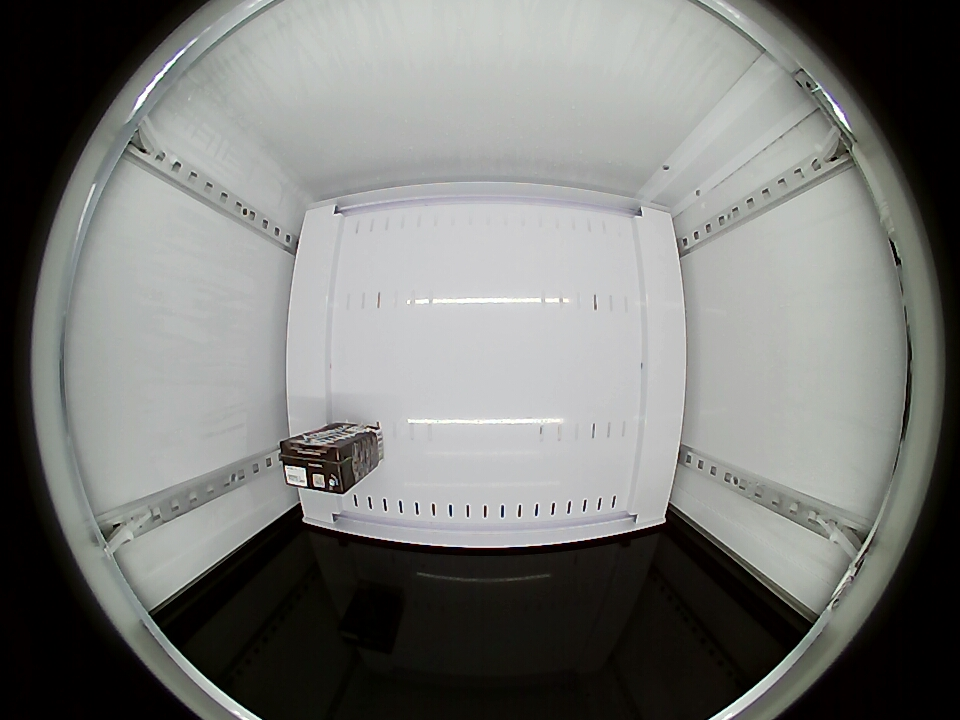weitanai2: (280, 436, 357, 495)
